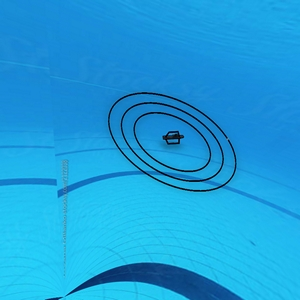submarine: (161, 131, 184, 146)
